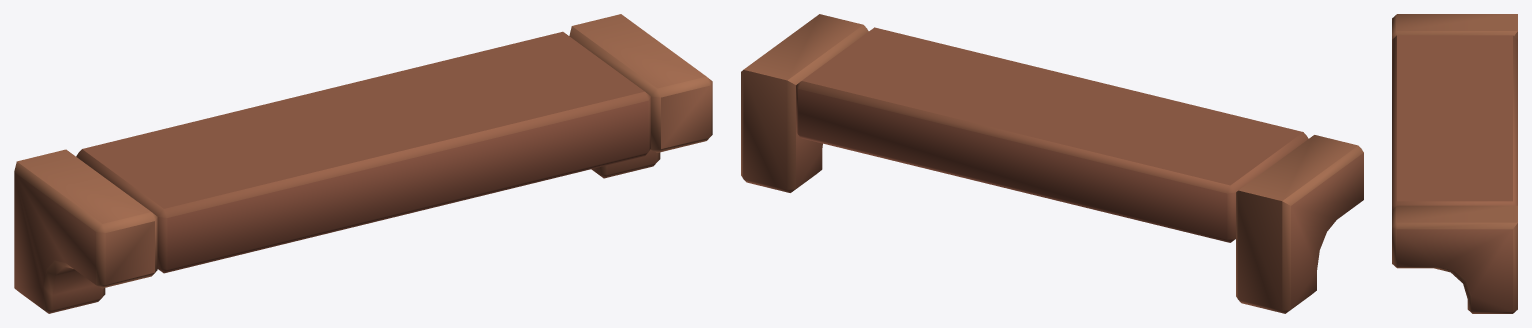
The model's file is K_shelf_A_big.glb.
The picture shows the model from 3 angles, left to right: view 1: azimuth 30°, elevation 25°; view 2: azimuth 150°, elevation 25°; view 3: azimuth 270°, elevation 25°; orthographic projection. The views are drawn at different scales.
Parts seen in each view (by area): view 1: shelf_A_big; view 2: shelf_A_big; view 3: shelf_A_big.
Part boxes in pixels (x1,y1,x2,y2): shelf_A_big: (14, 14, 712, 313); shelf_A_big: (741, 14, 1363, 313); shelf_A_big: (1392, 14, 1517, 313).
Bounding box in the file's own units: 2 × 0.4 × 0.5.
